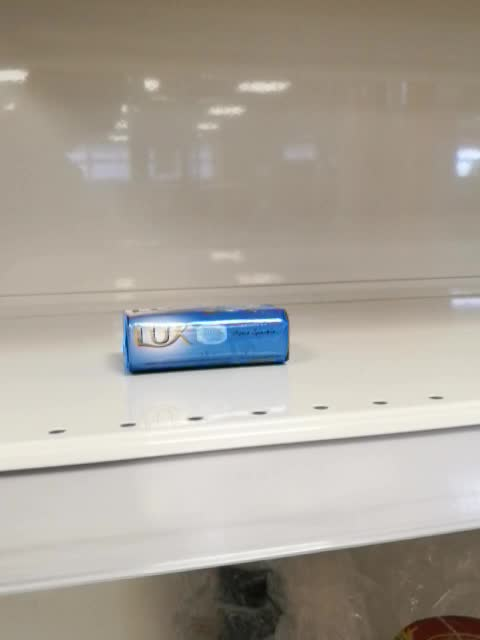soap: (122, 305, 291, 377)
